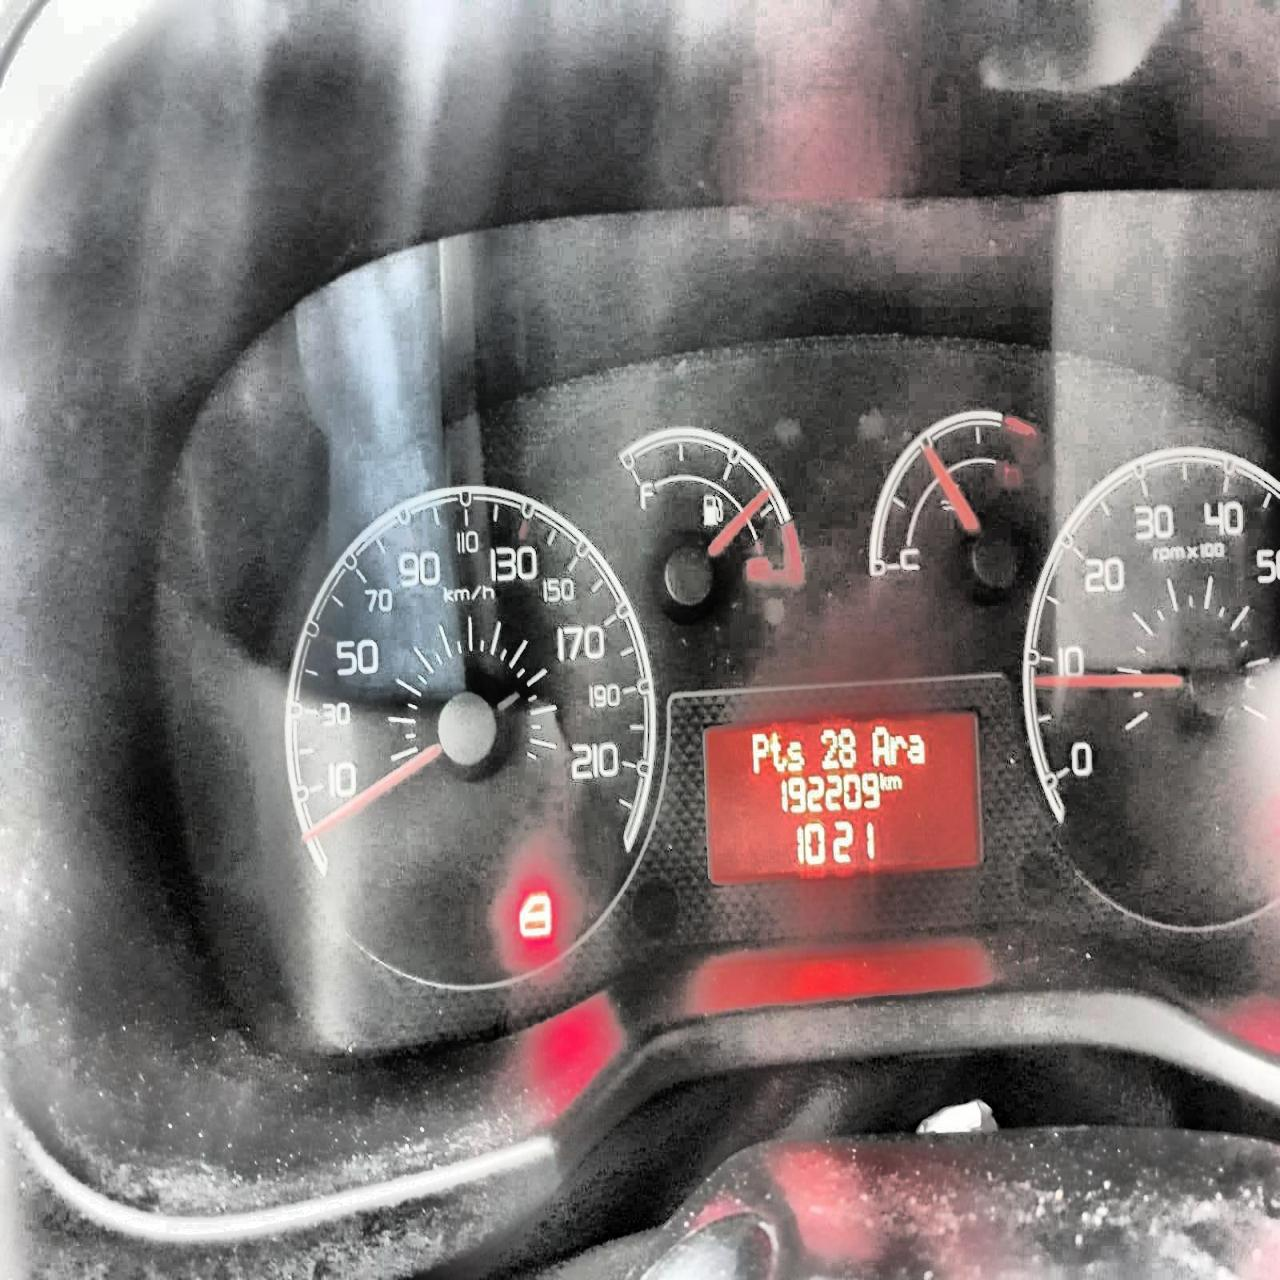0: (804, 822, 825, 867), (843, 772, 860, 812)
1: (863, 816, 877, 866), (794, 821, 804, 865), (779, 777, 788, 818)
2: (831, 818, 853, 866), (818, 726, 838, 769), (824, 771, 842, 812), (805, 774, 823, 812)
8: (837, 726, 857, 770)
9: (788, 774, 806, 813), (860, 771, 879, 810)
X: (750, 729, 769, 775), (769, 730, 787, 772), (871, 724, 888, 765), (787, 737, 805, 771), (888, 733, 907, 765), (908, 730, 927, 763), (887, 772, 903, 791), (879, 769, 887, 789)
odometer: (702, 709, 981, 880)
